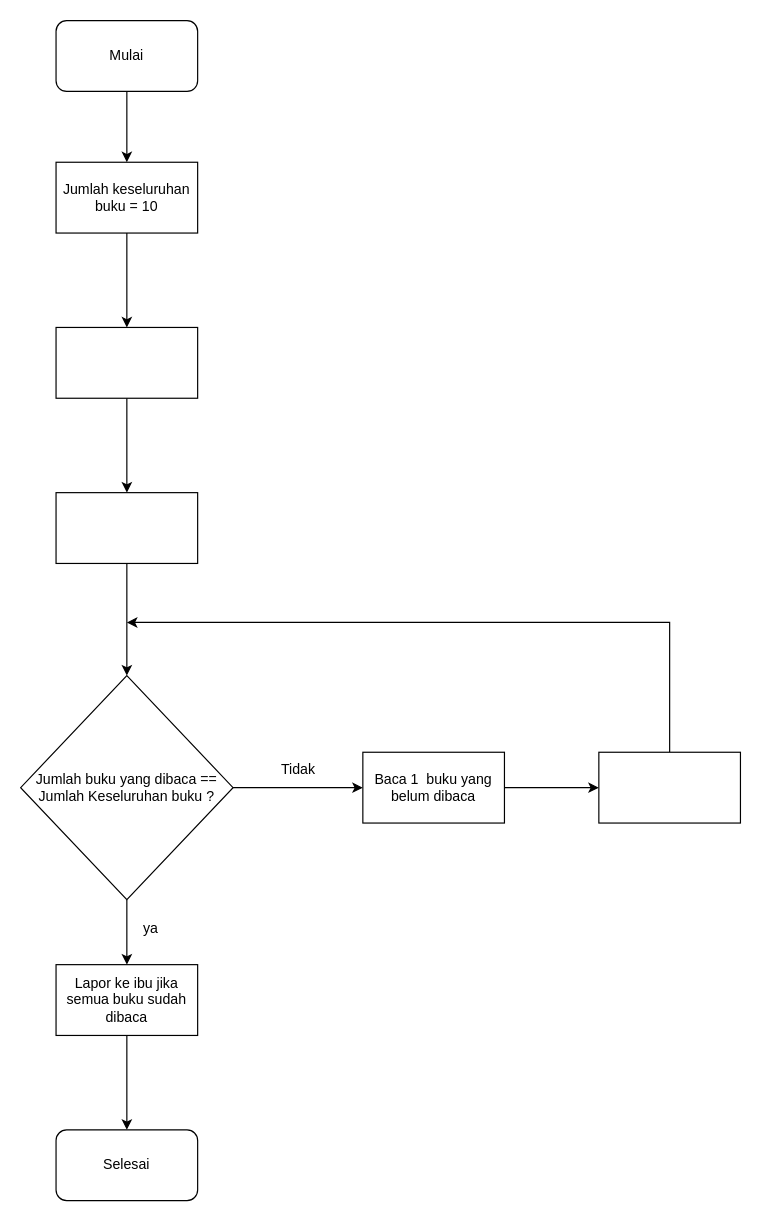
Image size: 761x1221. Some labels were removed from this diagram. Here are the shapes that lost their labels. From the top down, the box of each, then its label:
(55, 326, 198, 398): Perintah Ibu "Baca semua bukumu"
(55, 491, 198, 563): Jumlah buku yang dibaca = 0
(598, 751, 740, 823): Jumlah buku yang dibaca = Jumlah buku yang belum dibaca + 1
